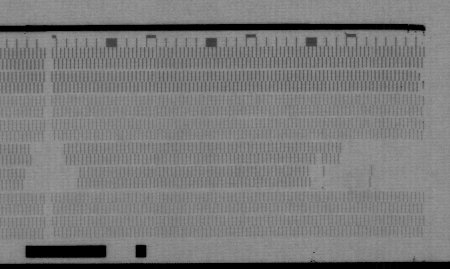Broken hole: (338, 141, 424, 193), (20, 166, 80, 191), (304, 164, 341, 191), (28, 143, 68, 167), (313, 151, 325, 164), (417, 81, 426, 93)
Oblique printing: (414, 69, 425, 83)
